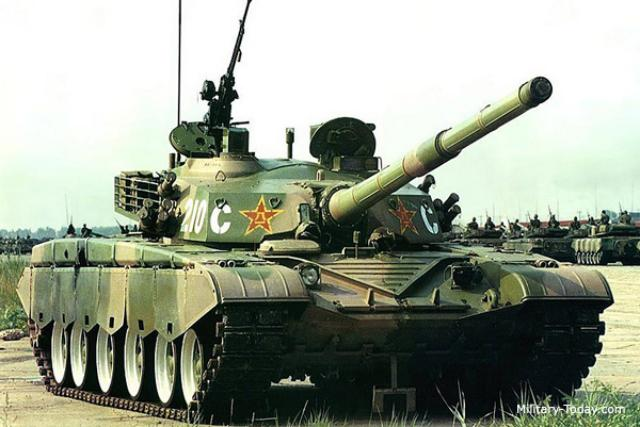other: (548, 213, 560, 225), (466, 216, 478, 227), (530, 213, 540, 225), (484, 216, 494, 227), (600, 209, 608, 222), (570, 215, 580, 225), (511, 219, 519, 228)
tank: (576, 225, 640, 261), (506, 225, 570, 255)
